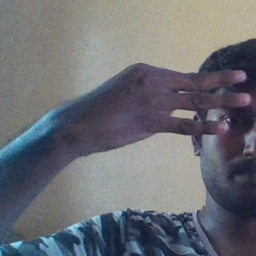K: (76, 61, 251, 146)
